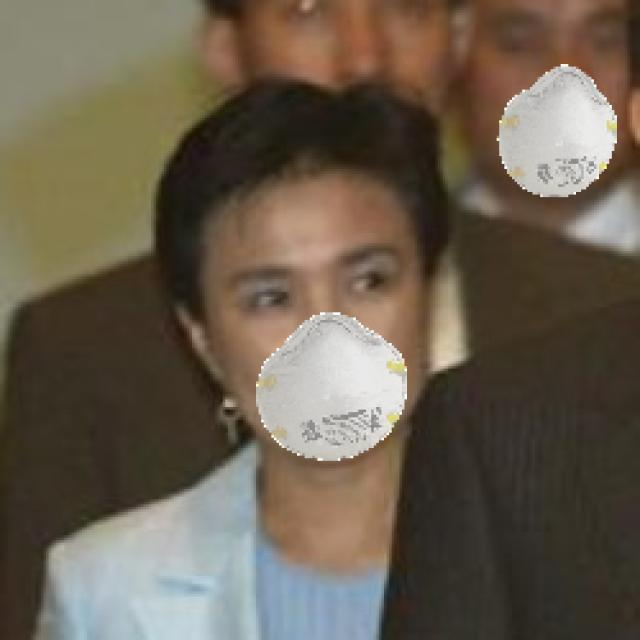n95: (186, 180, 434, 456)
